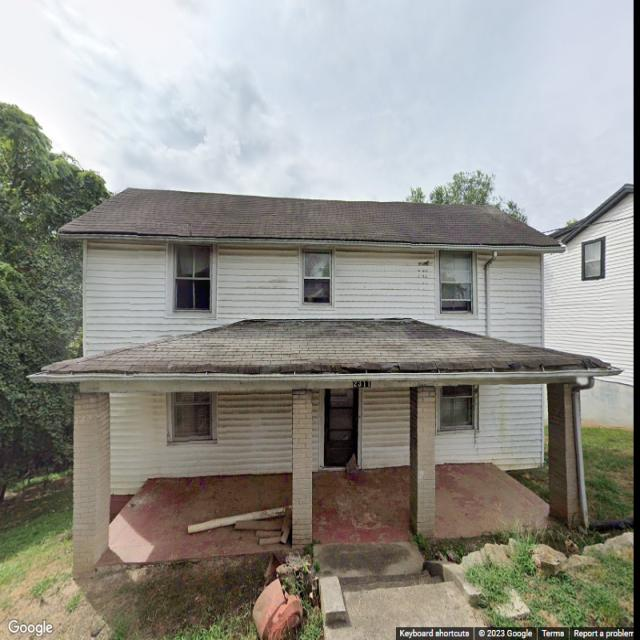House: (30, 186, 620, 574)
